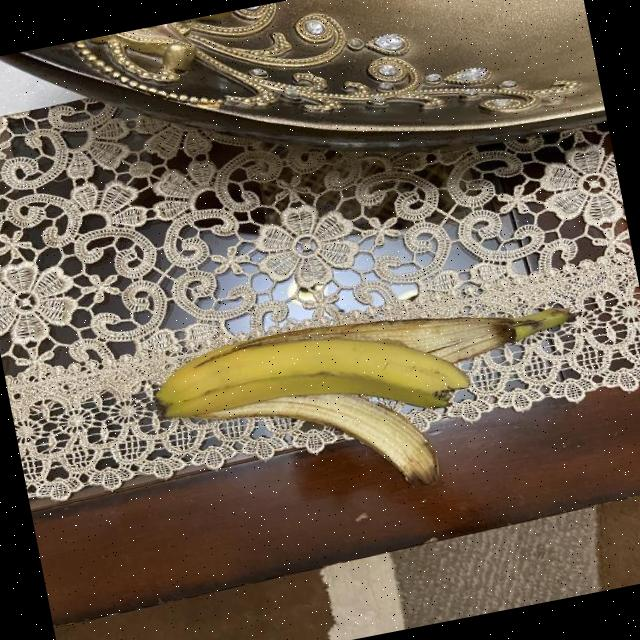banana-peel: (144, 274, 598, 534), (147, 300, 474, 463), (184, 368, 443, 528)
